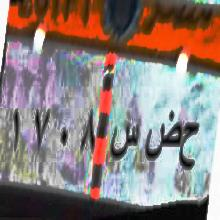0: (58, 110, 73, 165)
1: (8, 91, 24, 172)
7: (28, 98, 52, 156)
7aa: (181, 113, 199, 176)
8: (78, 104, 100, 158)
daad: (144, 103, 180, 170)
seen: (112, 112, 140, 172)
